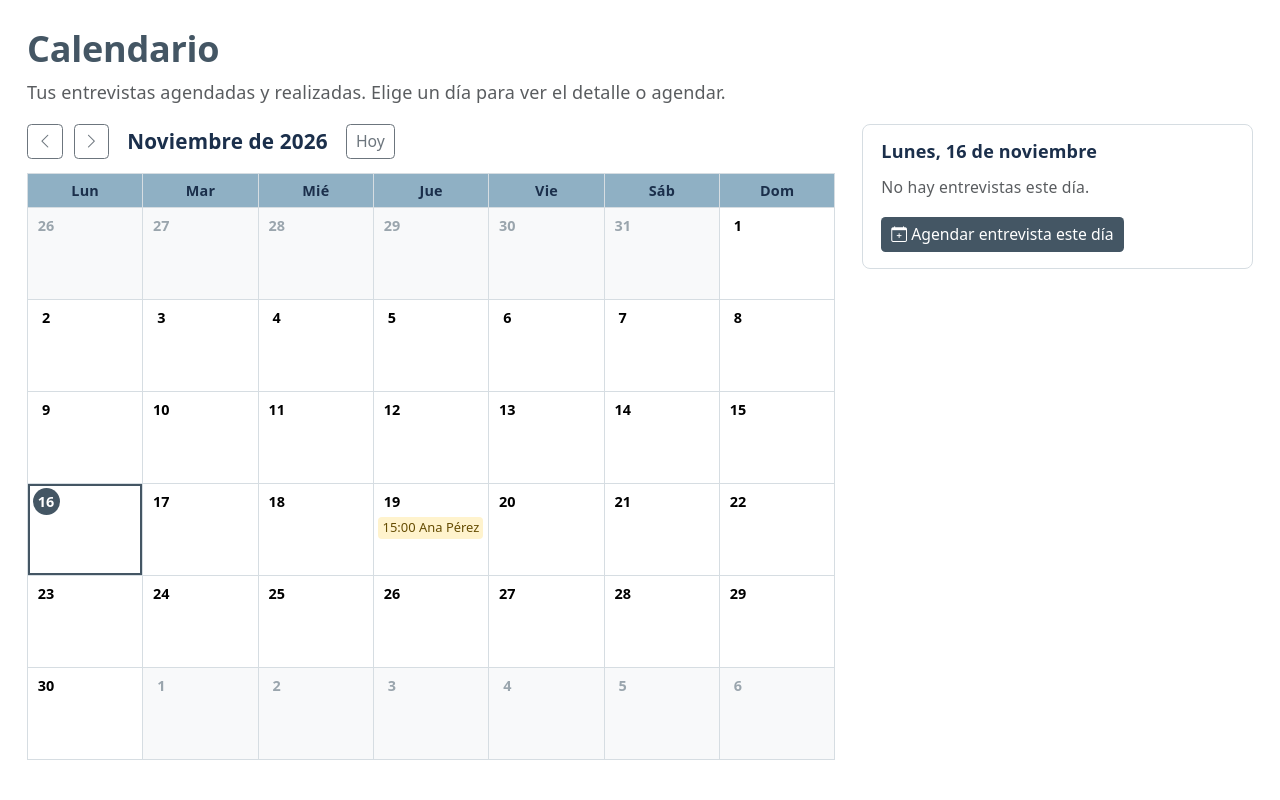
Calendario › deja al evaluador agendar desde un día, solo con solicitudes sin entrevista
Expected: the text "15:00 Ana Pérez" is shown, left=378, top=517, right=483, bottom=538
Click the button named "20 de noviembre": (547, 530) left=489, top=484, right=605, bottom=576
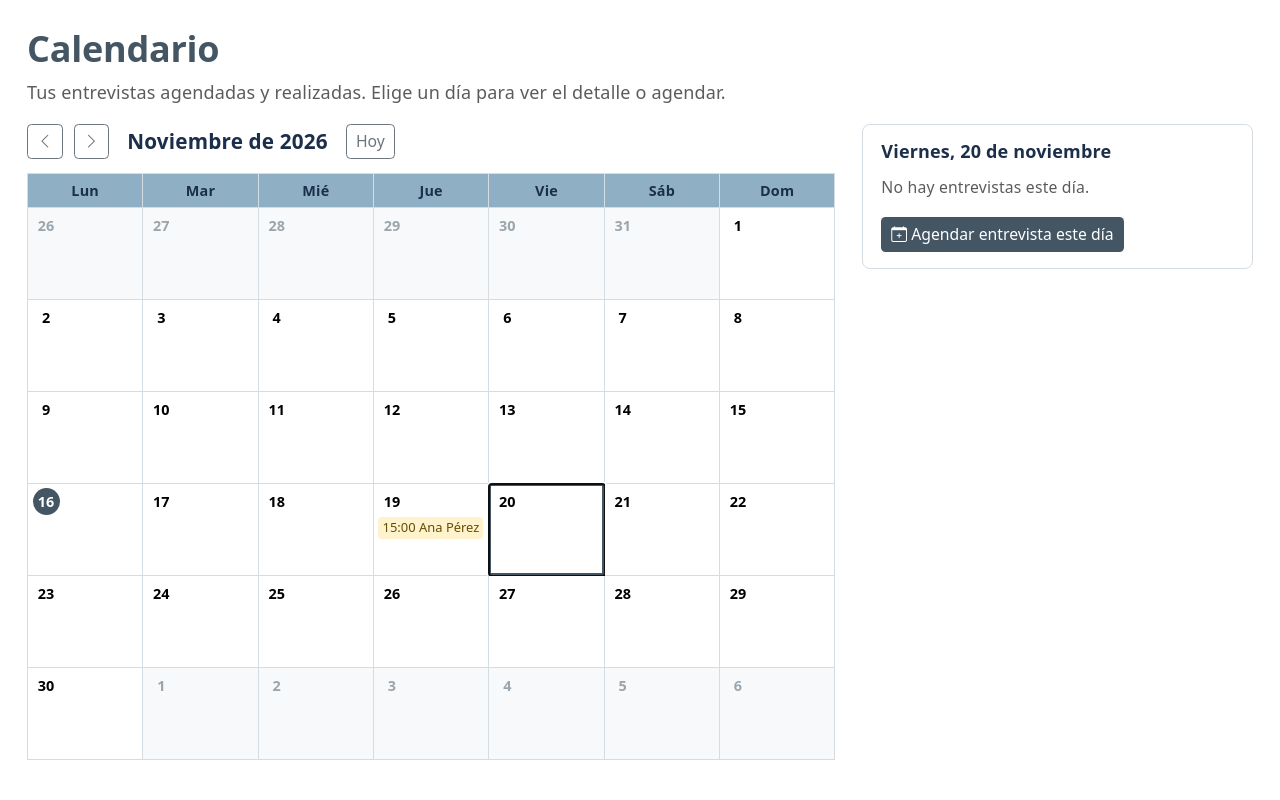
Click the button "Agendar entrevista este día": (1002, 234) left=881, top=217, right=1124, bottom=252
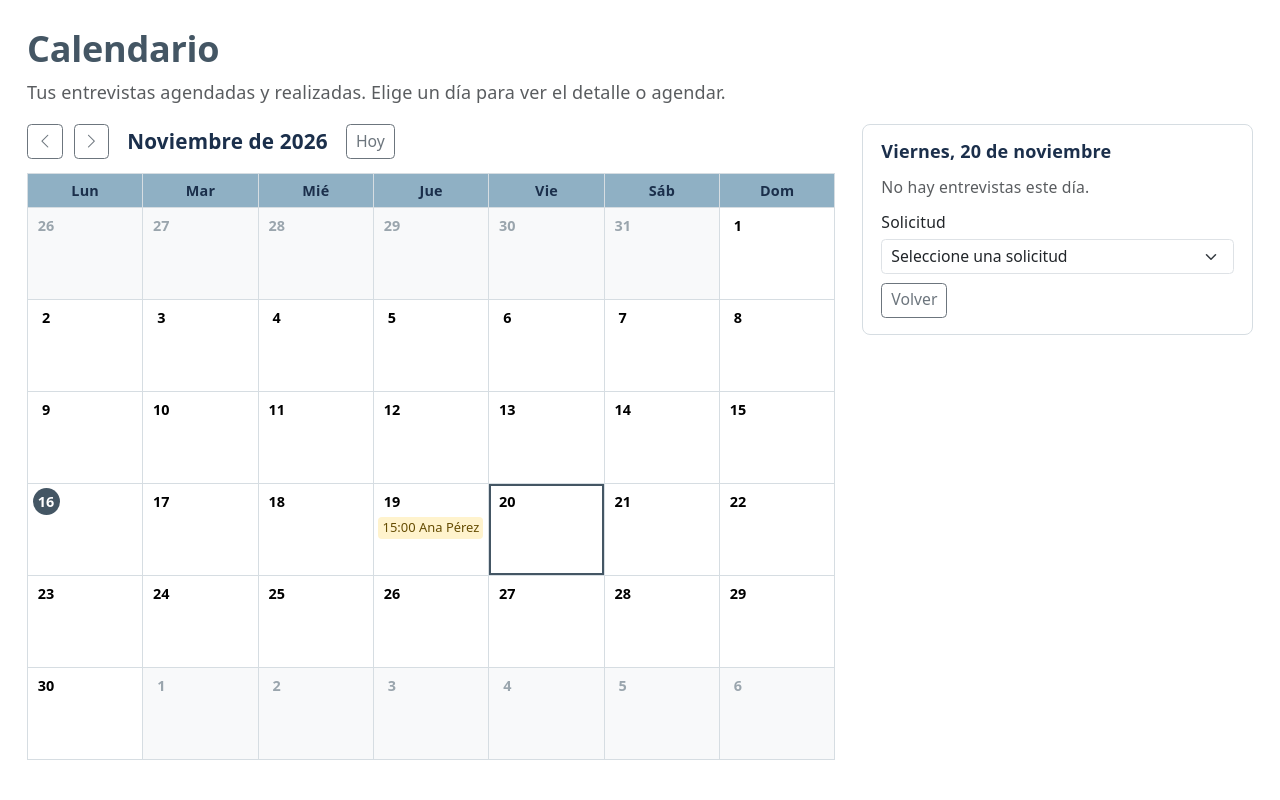
Select "Luis Soto · Gruero" in the dropdown labelled "Solicitud": (1058, 257) left=881, top=239, right=1234, bottom=274
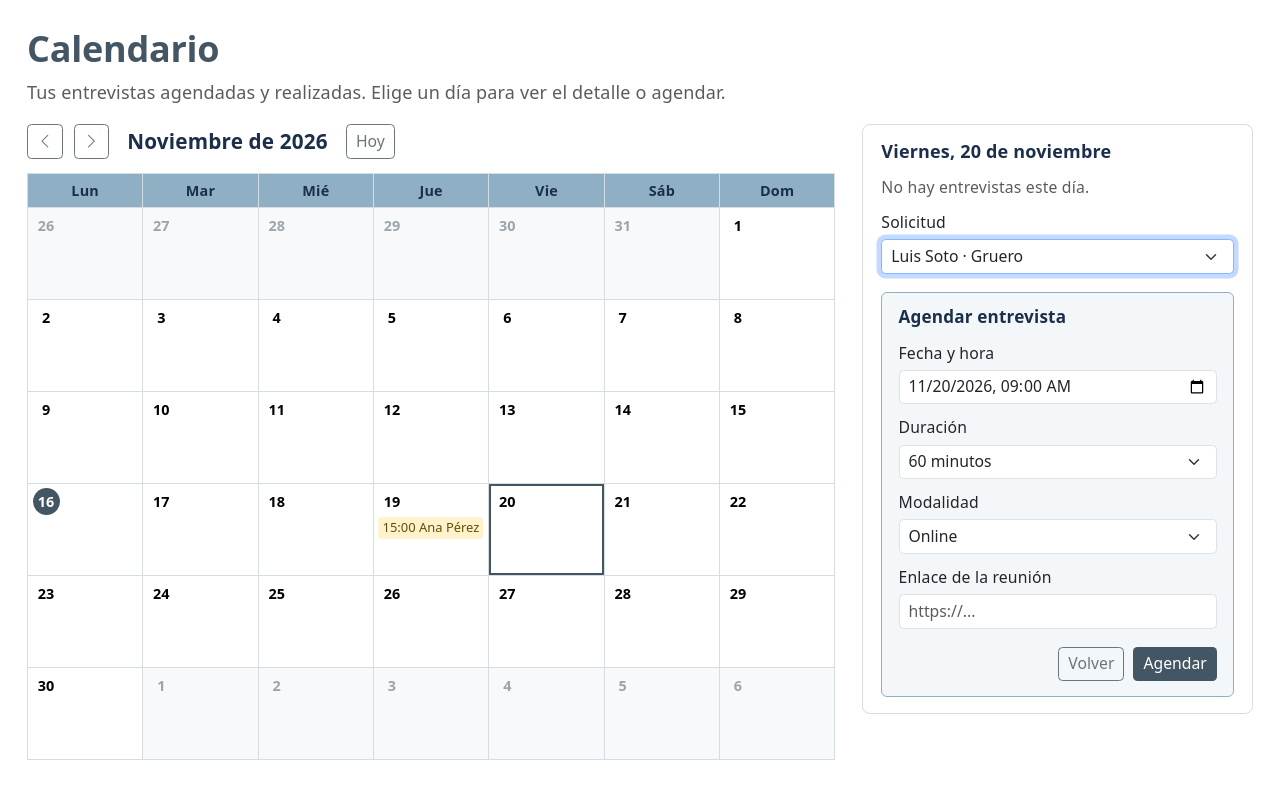
Expected: the field labelled "Fecha y hora" holds "2026-11-20T09:00"
Replace the text in the field labelled "Fecha y hora" with "2026-11-20T11:30": (1058, 387) left=898, top=370, right=1217, bottom=404
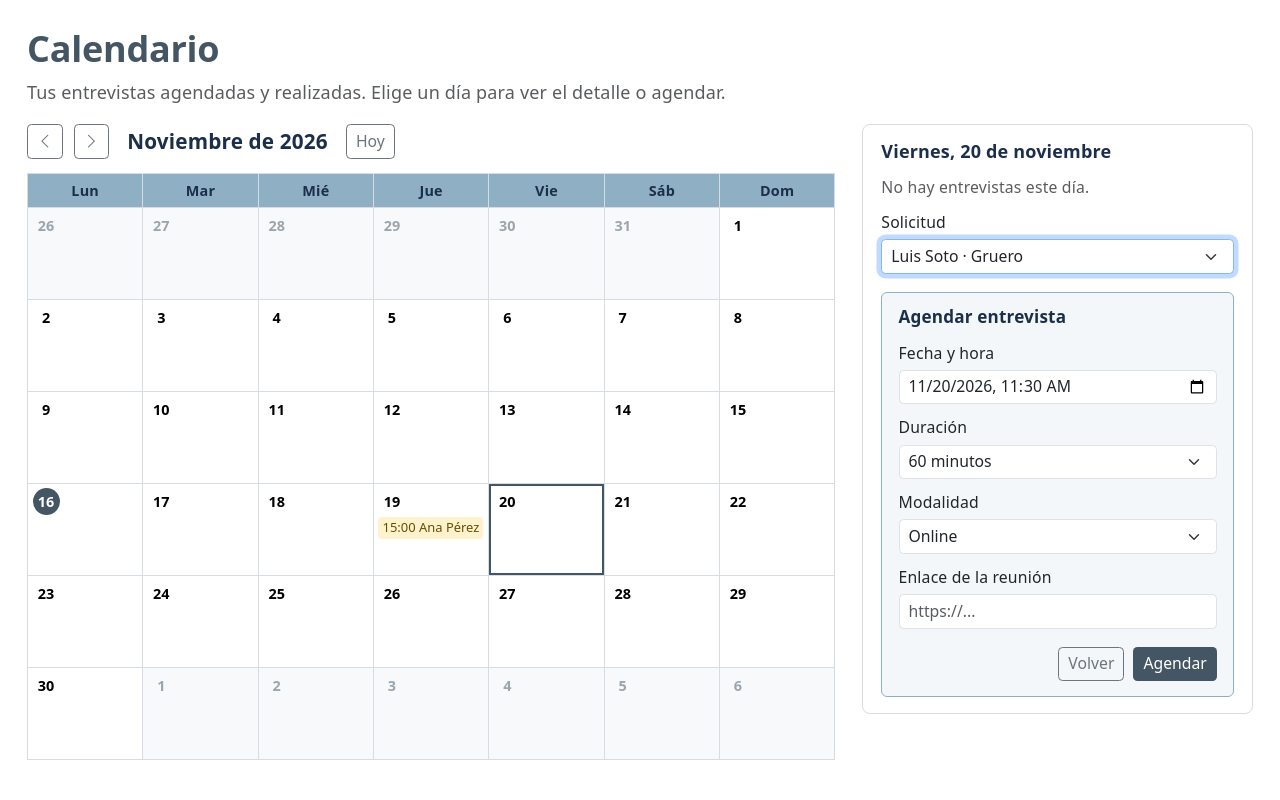
Click the button "Agendar": (1175, 664) left=1133, top=647, right=1217, bottom=681
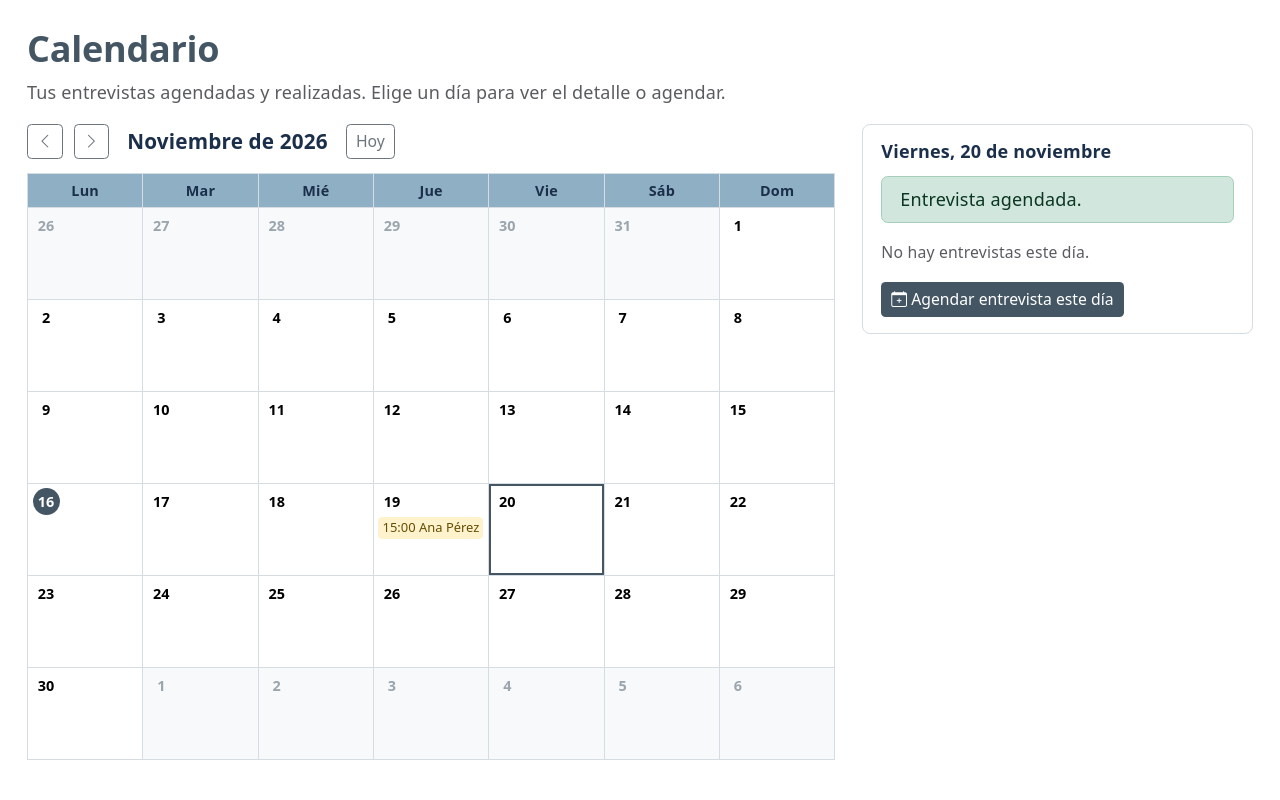
Expected: the text "Entrevista agendada." is shown, left=881, top=176, right=1234, bottom=223
